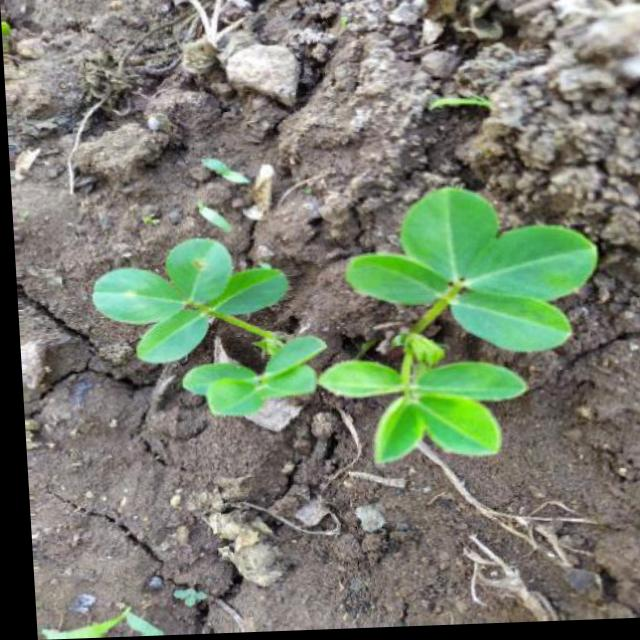weed: (74, 176, 601, 473)
